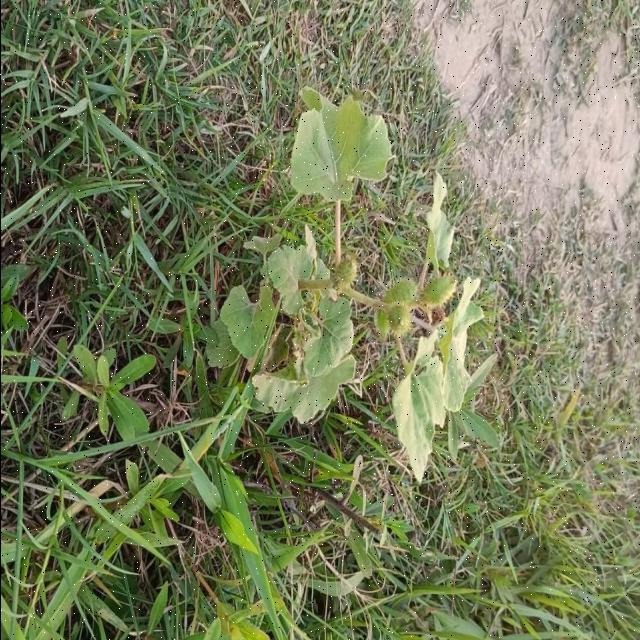weed: (207, 89, 498, 482)
